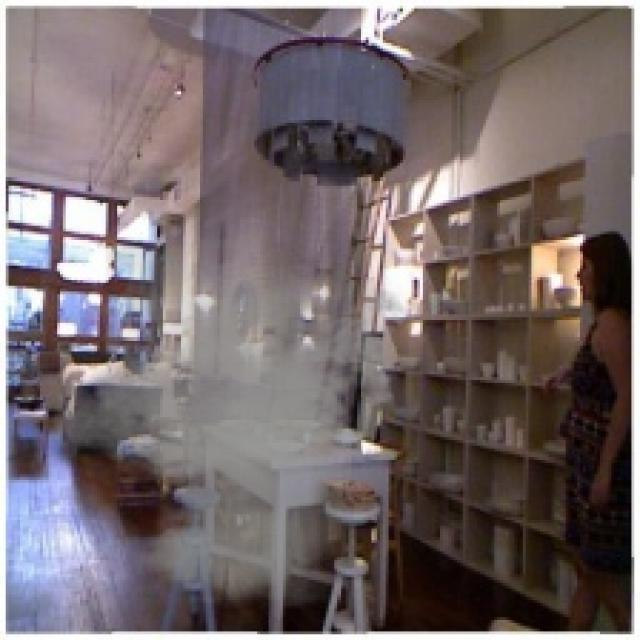Smoke: (37, 237, 420, 609)
